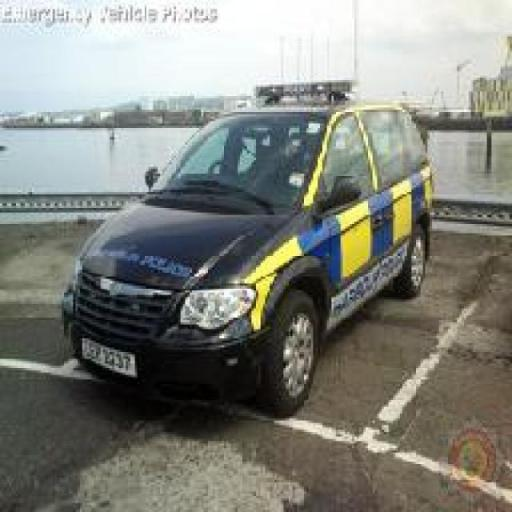Ambulance: (62, 76, 432, 418)
